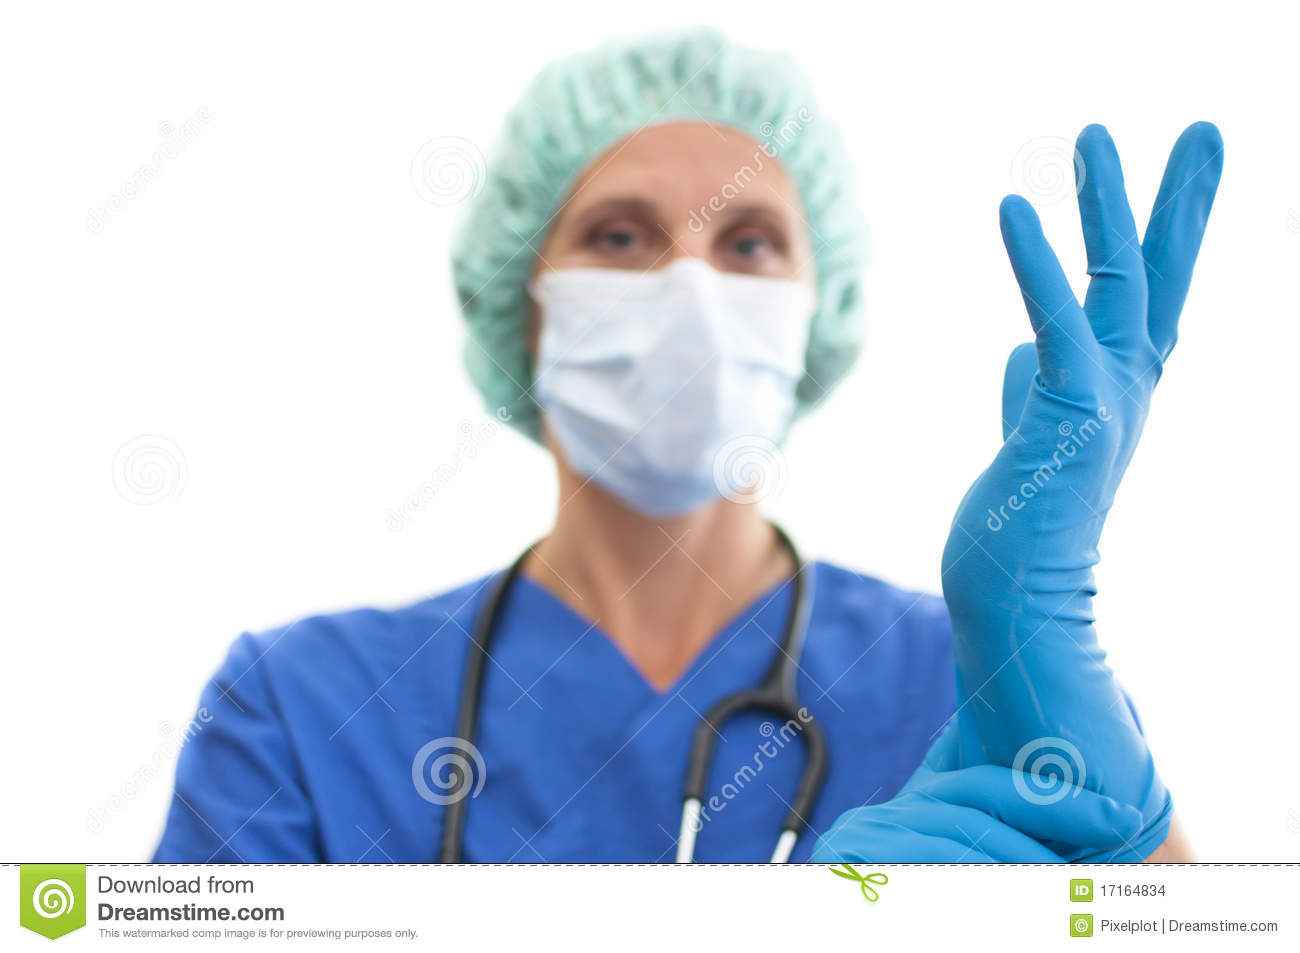mask: (520, 274, 808, 499)
